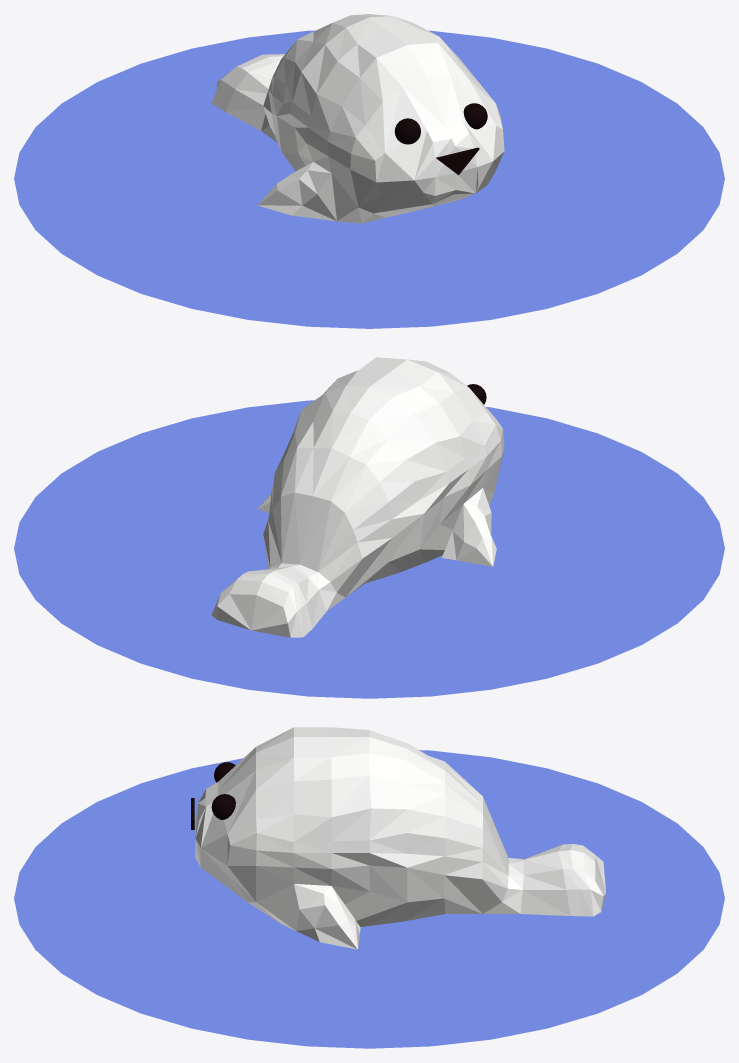
Rendered from seal.fbx.
3 renders of one model, top to bottom at view 1: azimuth 30°, elevation 25°; view 2: azimuth 150°, elevation 25°; view 3: azimuth 270°, elevation 25°, orthographic.
Visible parts, largest first — view 1: Disc, ブール, nose, right_eye; view 2: Disc, ブール; view 3: Disc, ブール.
Boxes of the visible parts, bbox=[...] form: Disc: bbox=[14, 30, 724, 328]; ブール: bbox=[211, 14, 504, 223]; nose: bbox=[436, 147, 479, 175]; right_eye: bbox=[394, 118, 420, 144]; Disc: bbox=[14, 400, 724, 698]; ブール: bbox=[211, 357, 504, 637]; Disc: bbox=[14, 750, 724, 1048]; ブール: bbox=[195, 727, 605, 949].
Bounding box in the file's own units: 376 × 94.3 × 376.
